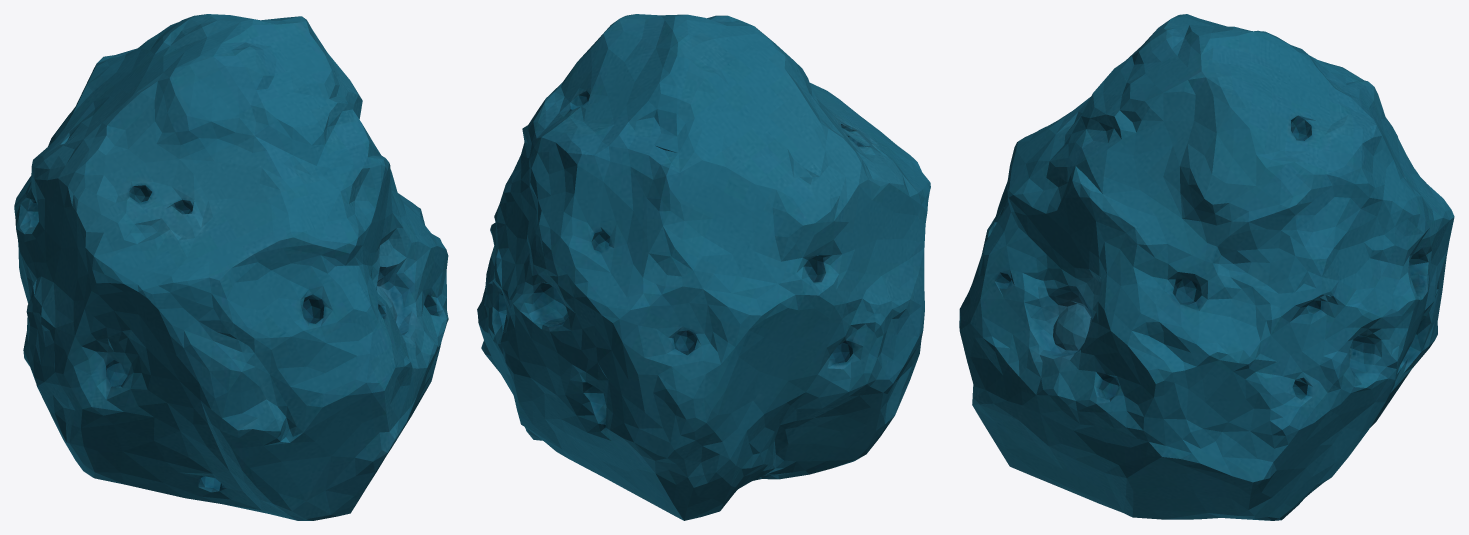
File: ph_nucleus.glb
3 renders of one model, left to right at view 1: azimuth 30°, elevation 25°; view 2: azimuth 150°, elevation 25°; view 3: azimuth 270°, elevation 25°, orthographic.
Parts seen in each view (by area): view 1: world; view 2: world; view 3: world.
Part boxes in pixels (<box>): world: <box>14,14,448,520</box>; world: <box>477,14,930,520</box>; world: <box>959,14,1454,520</box>.
Bounding box in the file's own units: 0.9245 × 0.9803 × 0.9986.
Materials: 1 (1 with a texture image).
